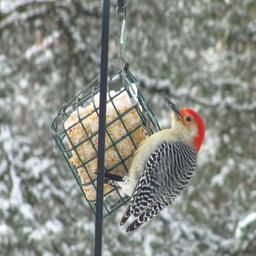Woodpecker: (100, 100, 205, 233)
